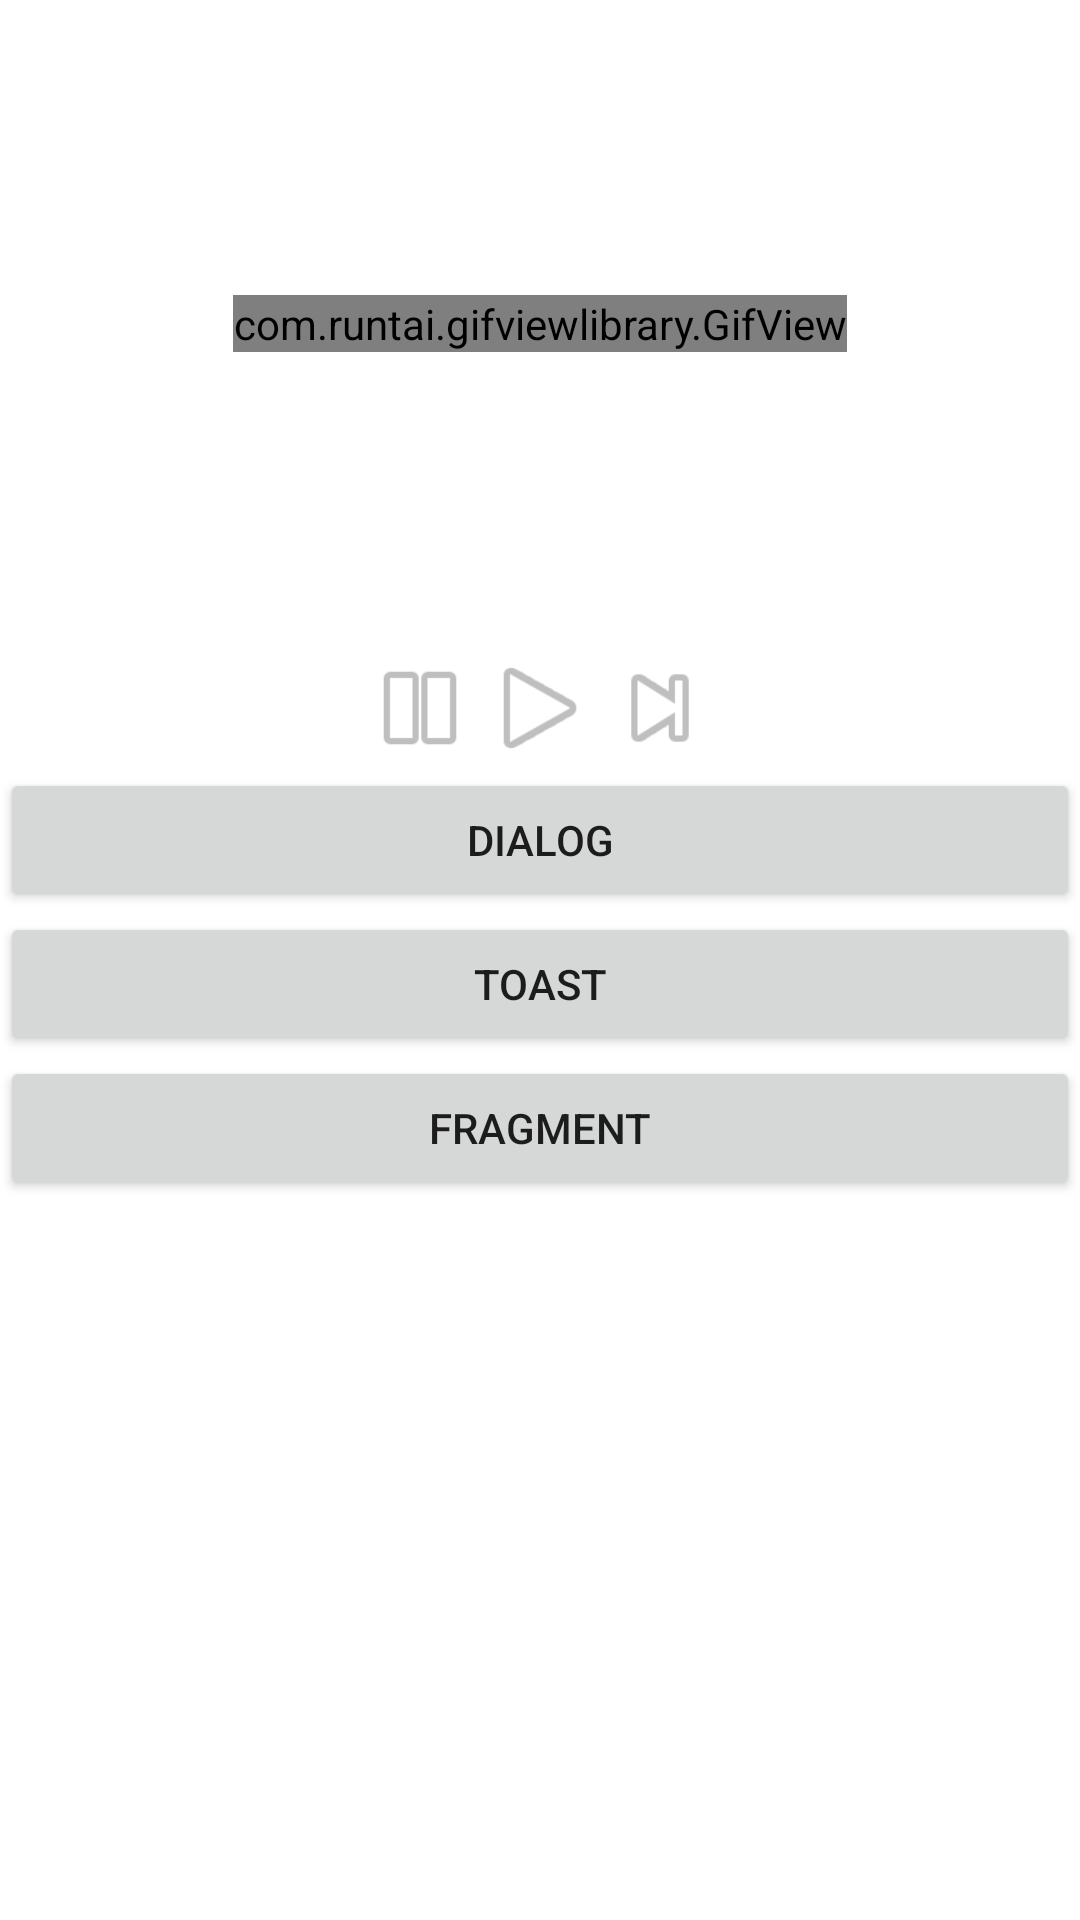

Named icons in this screenshot (1080 × 1920) and their bounding boxes, region(x1, y1, x2, y2):
next: region(631, 674, 689, 742)
pause: region(384, 672, 456, 744)
play: region(504, 668, 576, 748)
